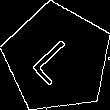L_NE: (29, 30, 86, 87)
